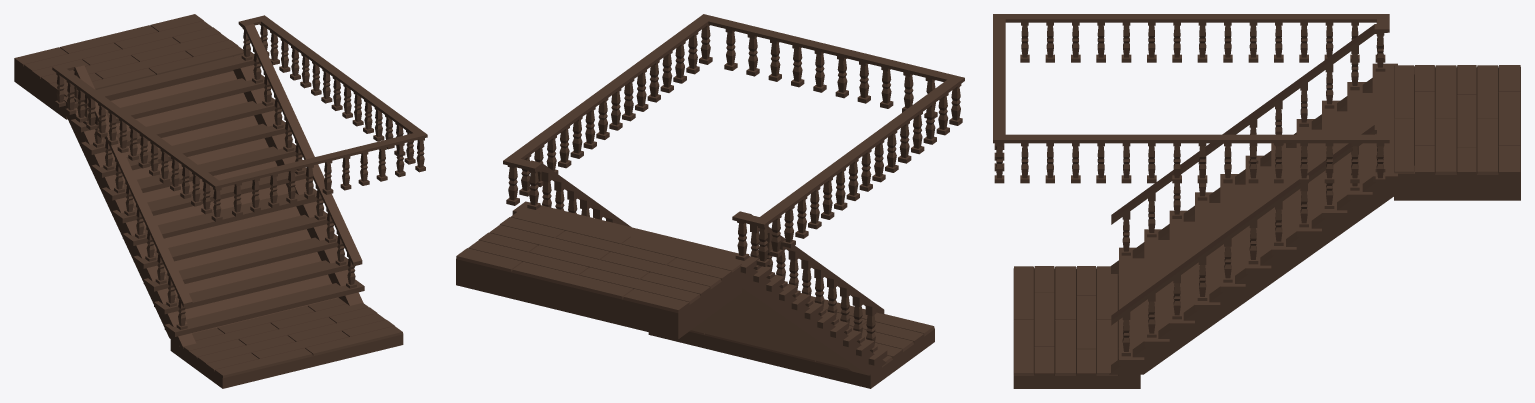
File: S_StairsBig.fbx
The picture shows the model from 3 angles, left to right: view 1: azimuth 30°, elevation 25°; view 2: azimuth 150°, elevation 25°; view 3: azimuth 270°, elevation 25°; orthographic projection. The views are drawn at different scales.
Parts seen in each view (by area): view 1: S_StairsBig, S_Floor.003, S_Floor.004, S_Floor.001, S_Floor.002, S_Ceiling.002; view 2: S_StairsBig, S_Floor.002, S_Floor.001, S_Floor.003, S_Ceiling.002, S_Ceiling.001, S_Floor.004; view 3: S_StairsBig, S_Floor.001, S_Floor.004, S_Floor.002, S_Floor.003, S_Ceiling.001.
Part boxes in pixels (box(x1,y1,x2,y2)): S_StairsBig: box(52, 15, 427, 348); S_Floor.003: box(170, 316, 312, 388); S_Floor.004: box(262, 298, 403, 366); S_Floor.001: box(105, 14, 243, 74); S_Floor.002: box(14, 36, 156, 100); S_Ceiling.002: box(14, 71, 156, 119); S_StairsBig: box(503, 14, 964, 375); S_Floor.002: box(567, 236, 741, 326); S_Floor.001: box(456, 209, 630, 298); S_Floor.003: box(759, 299, 934, 388); S_Ceiling.002: box(567, 284, 742, 339); S_Ceiling.001: box(456, 272, 567, 312); S_Floor.004: box(648, 296, 815, 361); S_StairsBig: box(993, 14, 1425, 374); S_Floor.001: box(1394, 118, 1520, 187); S_Floor.004: box(1013, 319, 1140, 388); S_Floor.002: box(1394, 65, 1520, 120); S_Floor.003: box(1013, 266, 1118, 321); S_Ceiling.001: box(1394, 188, 1520, 200).
Bounding box in the file's own units: 470 × 450 × 833.
